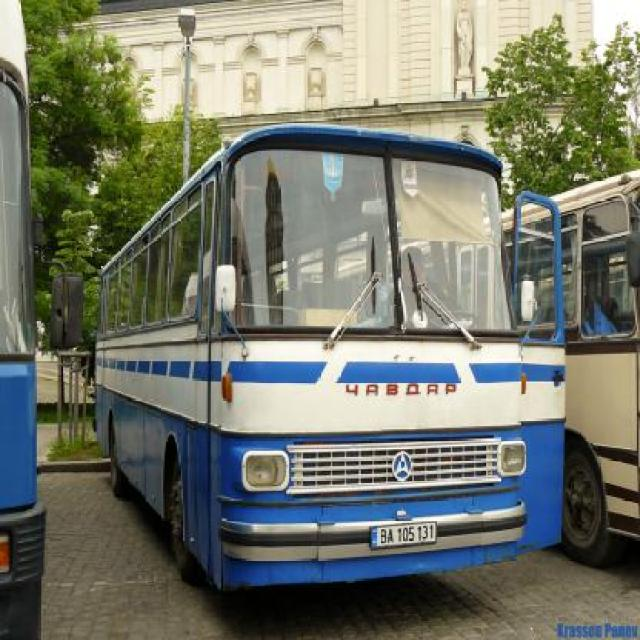bus: (90, 124, 564, 592)
